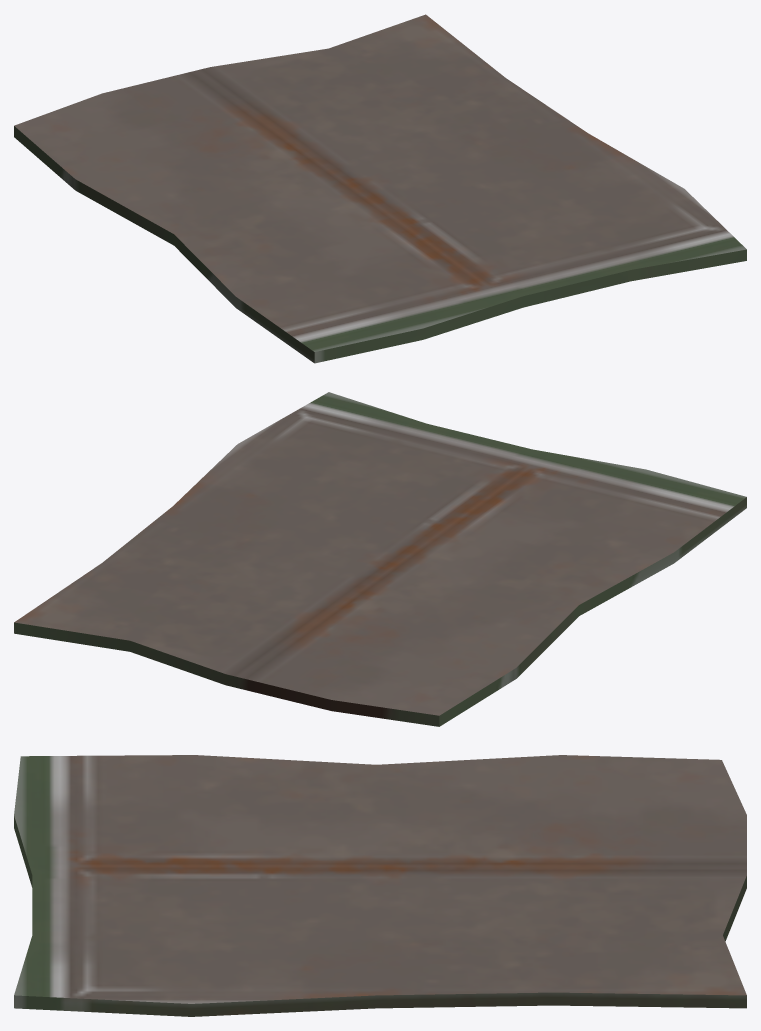
The model's file is SM_Props_Garbage_03.glb.
3 views of the same model, one above another, from view 1: azimuth 30°, elevation 25°; view 2: azimuth 150°, elevation 25°; view 3: azimuth 270°, elevation 25° (orthographic). The views are drawn at different scales.
Visible parts, largest first — view 1: SM_Props_Garbage_03; view 2: SM_Props_Garbage_03; view 3: SM_Props_Garbage_03.
Part boxes in pixels (x1=…): SM_Props_Garbage_03: x1=14, y1=14, x2=746, y2=363; SM_Props_Garbage_03: x1=14, y1=392, x2=746, y2=726; SM_Props_Garbage_03: x1=14, y1=755, x2=746, y2=1016.
Bounding box in the file's own units: 0.3283 × 0.00799 × 0.4084.
Materials: 1 (1 with a texture image).
